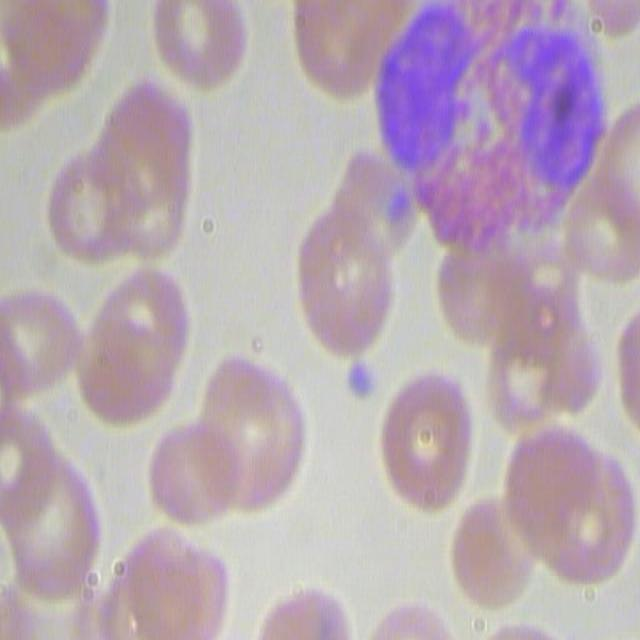RBC: (54, 70, 198, 270), (504, 417, 638, 585), (72, 262, 192, 433), (487, 277, 600, 445), (0, 458, 99, 640), (200, 350, 303, 515), (291, 202, 396, 356), (96, 522, 229, 638), (565, 108, 639, 299), (376, 368, 469, 510), (6, 292, 79, 468), (286, 2, 395, 108), (0, 0, 107, 99), (148, 0, 254, 88), (449, 500, 531, 607), (252, 585, 352, 640)
WBC: (382, 0, 621, 222)
platelets: (344, 358, 384, 406)
